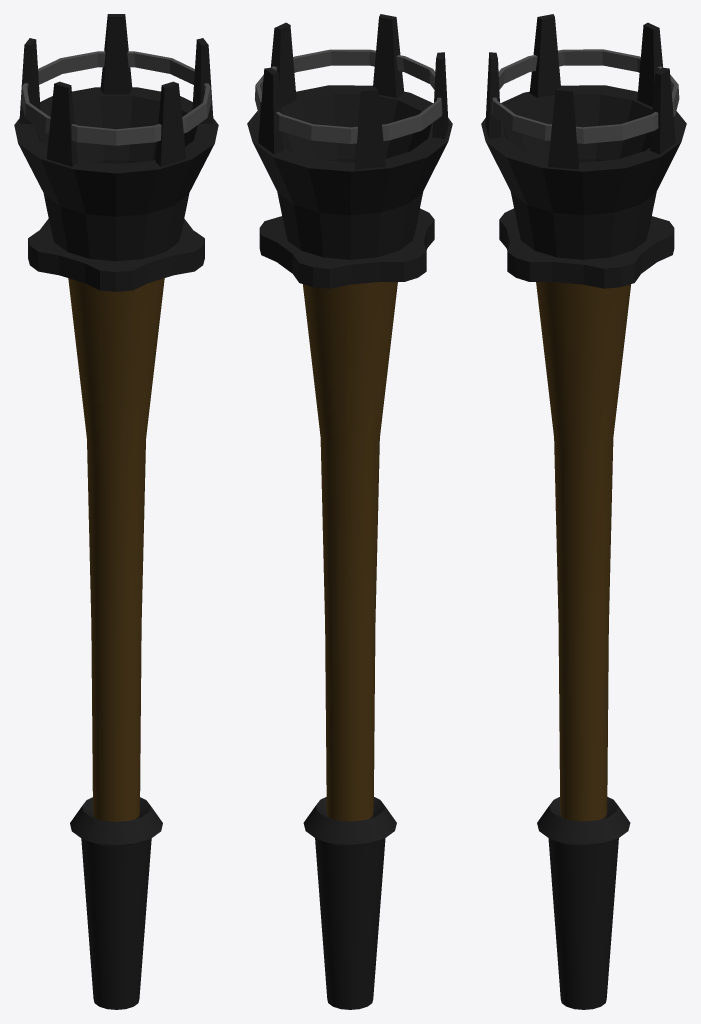
The model's file is Antorxa.FBX.
The picture shows the model from 3 angles, left to right: view 1: azimuth 30°, elevation 25°; view 2: azimuth 150°, elevation 25°; view 3: azimuth 270°, elevation 25°; orthographic projection.
Visible parts, largest first — view 1: Cylinder002, Cerclo; view 2: Cylinder002, Cerclo; view 3: Cylinder002, Cerclo.
Part boxes in pixels (box(x1,y1,x2,y2)): Cylinder002: box(14, 14, 218, 1009); Cerclo: box(21, 51, 211, 145); Cylinder002: box(247, 14, 452, 1009); Cerclo: box(255, 49, 442, 143); Cylinder002: box(481, 14, 686, 1009); Cerclo: box(491, 49, 679, 143).
Bounding box in the file's own units: 19.35 × 99.01 × 19.47.
